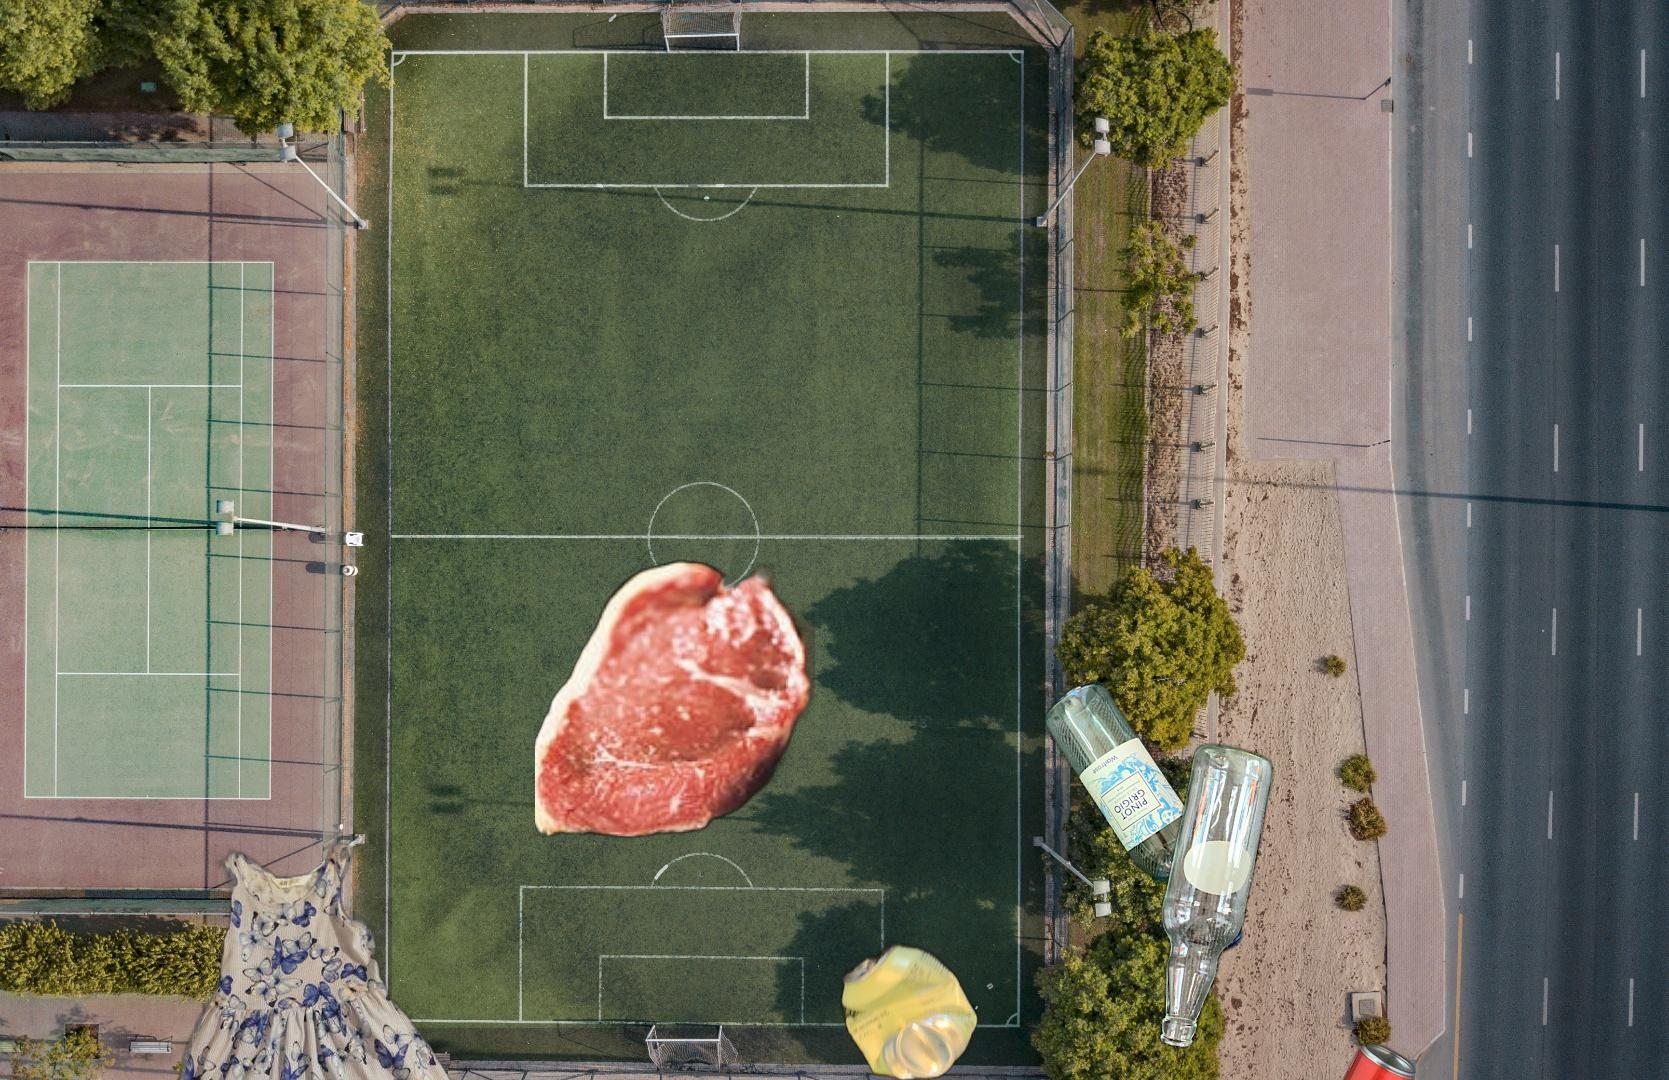biological: (535, 542, 815, 854)
clothes: (137, 838, 512, 1080)
glass: (1041, 675, 1248, 958), (1154, 738, 1277, 1053)
metal-cans: (836, 934, 982, 1080), (1152, 1037, 1418, 1080)
